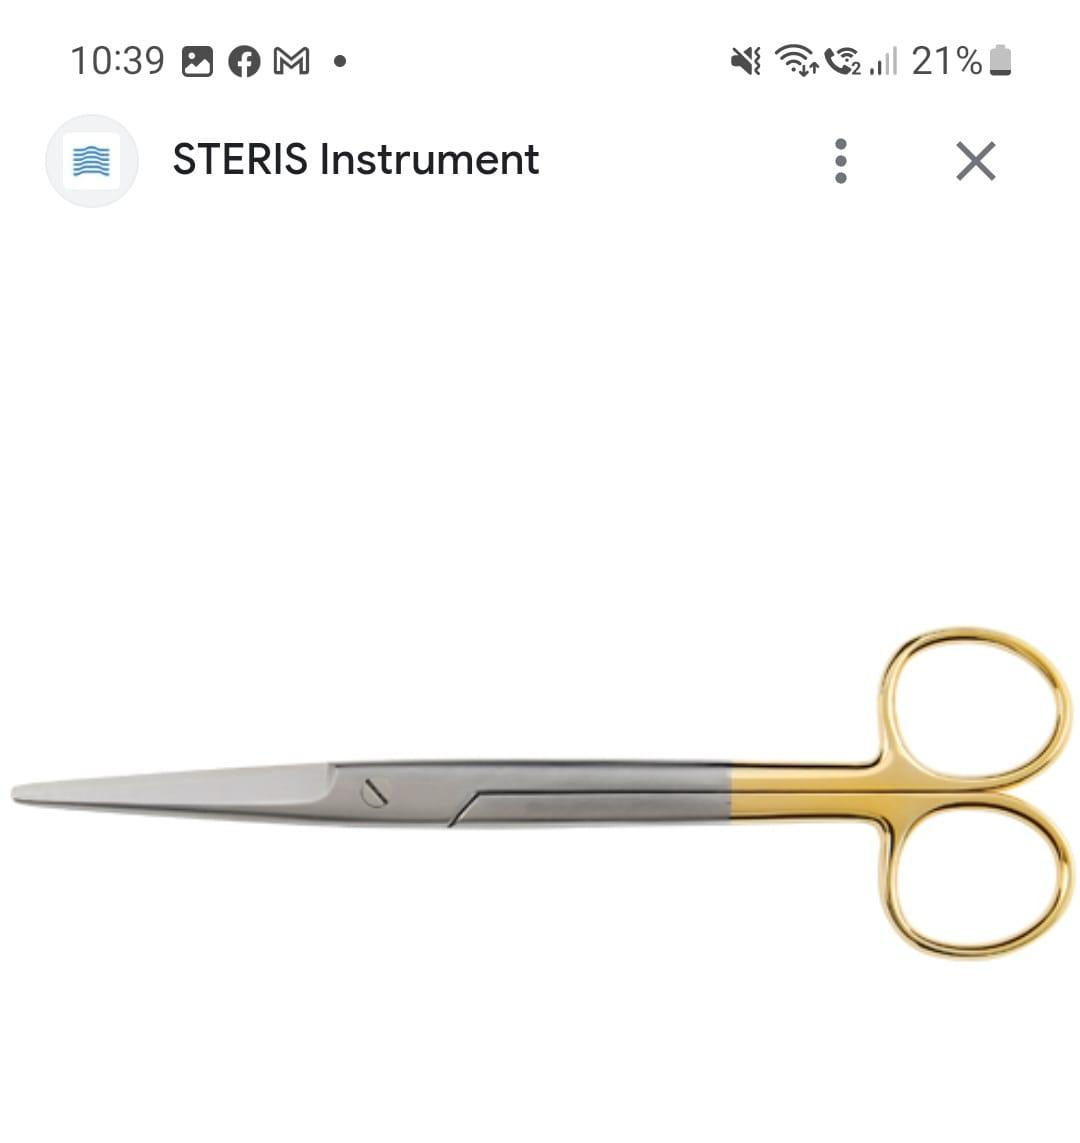Straight Mayo: (8, 595, 1080, 970)
